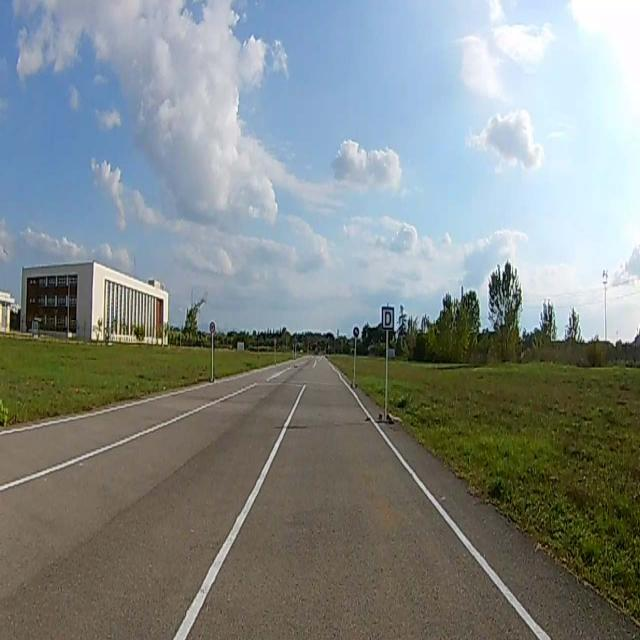durak: (382, 306, 395, 330)
